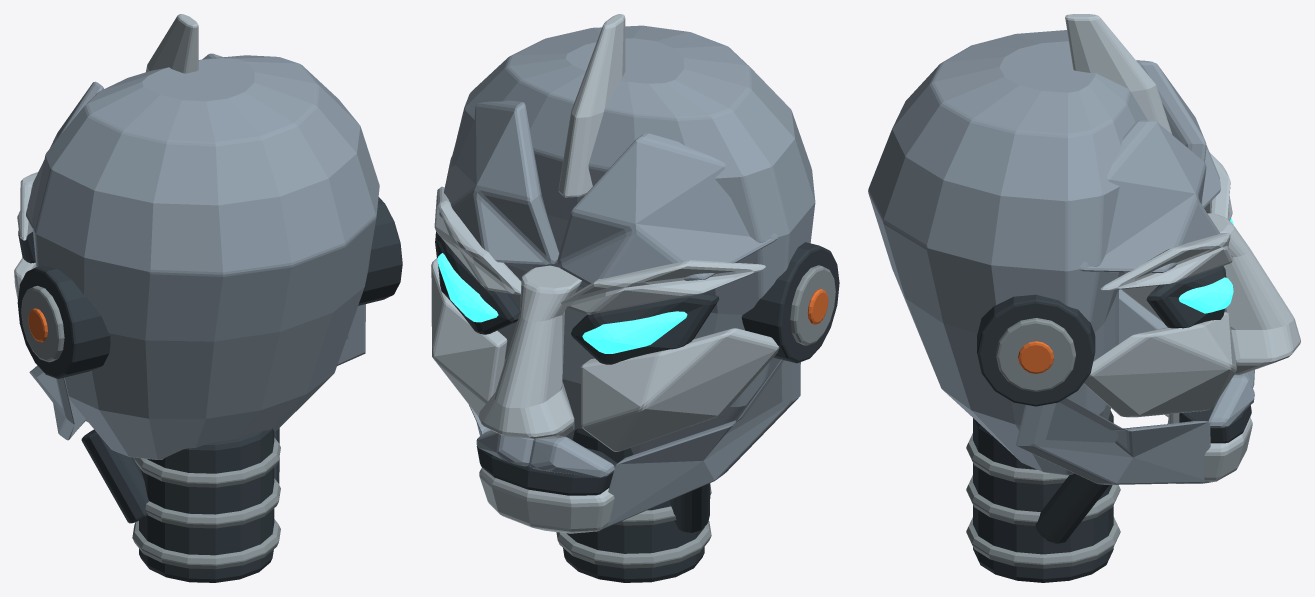
3 renders of one model, left to right at view 1: azimuth 30°, elevation 25°; view 2: azimuth 150°, elevation 25°; view 3: azimuth 270°, elevation 25°, orthographic. The views are drawn at different scales.
Parts seen in each view (by area): view 1: Head_hero; view 2: Head_hero; view 3: Head_hero.
Boxes of the visible parts, x1=… form: Head_hero: x1=14, y1=14, x2=402, y2=582; Head_hero: x1=431, y1=14, x2=839, y2=582; Head_hero: x1=868, y1=14, x2=1300, y2=582.
Bounding box in the file's own units: 0.4291 × 0.6166 × 0.4475.
